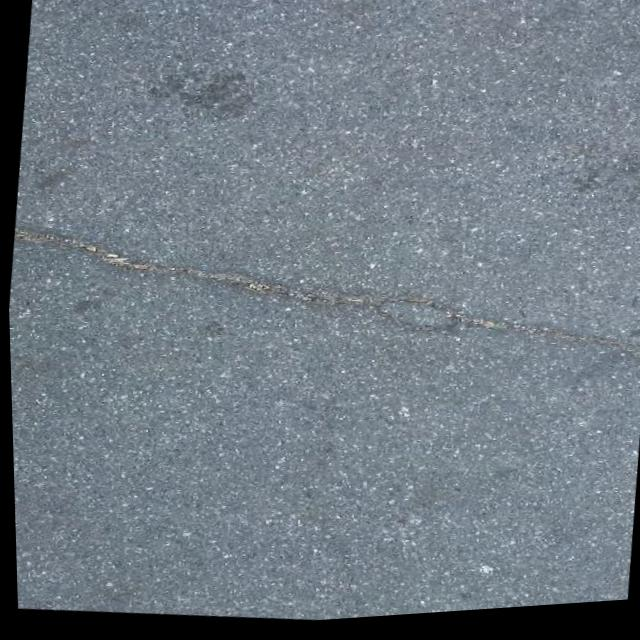Crack: (5, 186, 640, 400)
